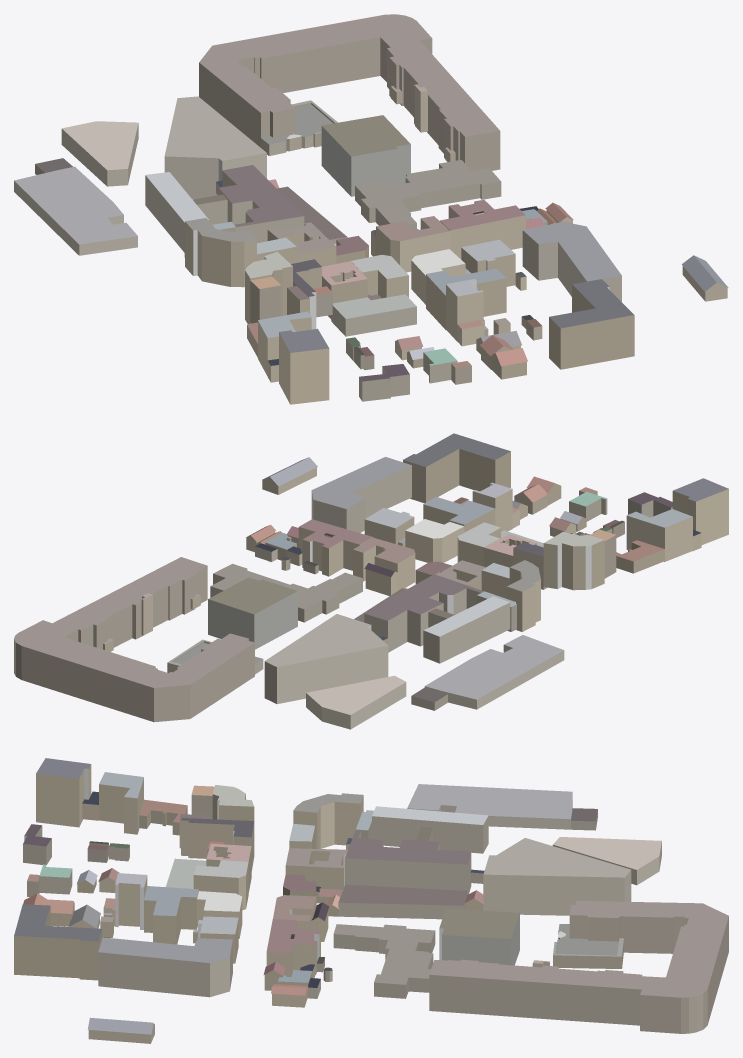
3 views of the same model, one above another, from view 1: azimuth 30°, elevation 25°; view 2: azimuth 150°, elevation 25°; view 3: azimuth 270°, elevation 25° (orthographic). The views are drawn at different scales.
Visible parts, largest first — view 1: tuile; view 2: tuile; view 3: tuile.
Boxes of the visible parts, <box> form: tuile: <box>14,14,728,404</box>; tuile: <box>14,433,728,729</box>; tuile: <box>14,758,728,1043</box>.
Bounding box in the file's own units: 211 × 30.98 × 287.
